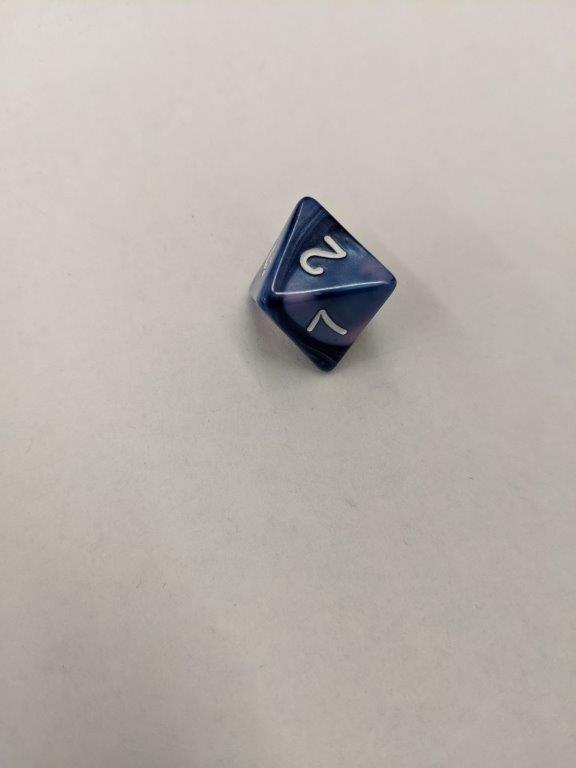d8-2: (246, 194, 400, 376)
